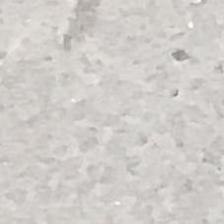Non_Crack: (9, 9, 214, 219)
